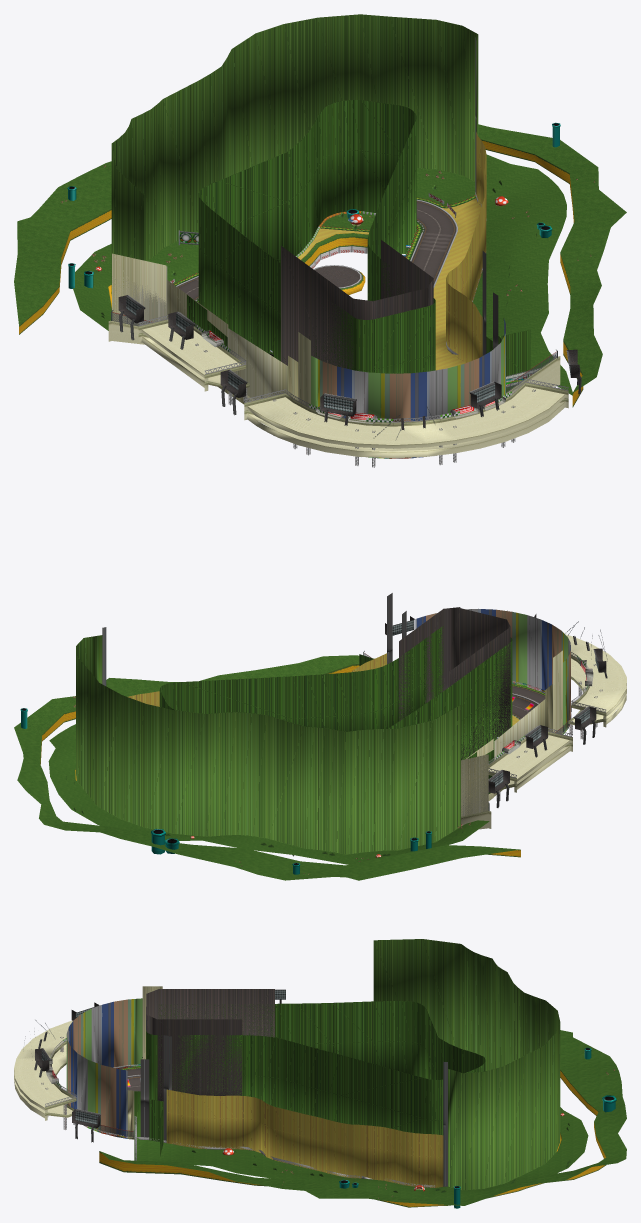
Rendered from LuigiCircuit_road.glb.
3 renders of one model, top to bottom at view 1: azimuth 30°, elevation 25°; view 2: azimuth 150°, elevation 25°; view 3: azimuth 270°, elevation 25°, orthographic. The views are drawn at different scales.
Parts seen in each view (by area): view 1: polygon4, grass_grass, grass_grass.002, polygon6, polygon8, polygon22, grass_grass.001, polygon20, polygon1, polygon39; view 2: polygon4, grass_grass, grass_grass.002, polygon6, polygon8, polygon22, polygon39, polygon1, polygon20, grass_grass.001; view 3: polygon4, grass_grass, grass_grass.002, grass_grass.001, polygon8, polygon22, polygon6, polygon1, polygon20, polygon39.
Part boxes in pixels (x1,y1,x2,y2): polygon4: [19, 14, 583, 407]; grass_grass: [173, 100, 476, 373]; grass_grass.002: [14, 124, 626, 395]; polygon6: [108, 197, 581, 458]; polygon8: [177, 201, 455, 372]; polygon22: [270, 218, 532, 458]; grass_grass.001: [298, 132, 486, 370]; polygon20: [112, 312, 568, 467]; polygon1: [176, 37, 498, 355]; polygon39: [67, 122, 560, 288]; polygon4: [40, 635, 520, 857]; grass_grass: [159, 626, 545, 760]; grass_grass.002: [14, 654, 519, 880]; polygon6: [363, 610, 626, 829]; polygon8: [399, 607, 545, 759]; polygon22: [415, 608, 570, 738]; polygon39: [20, 708, 431, 874]; polygon1: [102, 593, 538, 719]; polygon20: [364, 621, 607, 800]; grass_grass.001: [128, 653, 519, 725]; polygon4: [99, 939, 606, 1207]; grass_grass: [120, 1001, 485, 1135]; grass_grass.002: [100, 1030, 626, 1205]; grass_grass.001: [166, 1089, 443, 1187]; polygon8: [125, 989, 274, 1101]; polygon22: [66, 998, 142, 1138]; polygon6: [14, 986, 335, 1142]; polygon1: [127, 1035, 447, 1187]; polygon20: [24, 1020, 136, 1160]; polygon39: [222, 1047, 616, 1208].
Bounding box in the file's own units: 743 × 335 × 861.
Materials: 14 (14 with a texture image).
